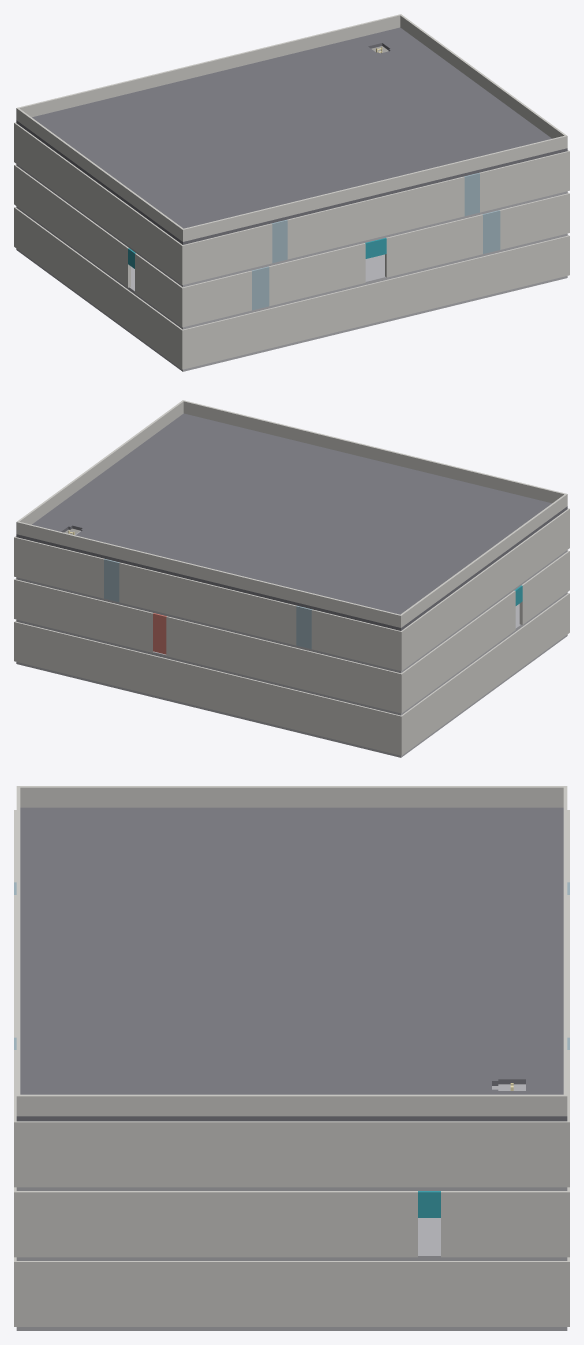
The model's file is bank_branch_a04.glb.
3 renders of one model, top to bottom at view 1: azimuth 30°, elevation 25°; view 2: azimuth 150°, elevation 25°; view 3: azimuth 270°, elevation 25°, orthographic. The views are drawn at different scales.
Visible parts, largest first — view 1: slab_2_t2_4, slab_2_t2_5, slab_2_t3_3, slab_2_t1_2, slab_2_t1_3, slab_2_t1_6, slab_2_t2_6, slab_2_t3_4, slab_2_t3_5, slab_2_t4_3, slab_2_t4_4, slab_2_t4_6 (+148 smaller); view 2: slab_2_t3_4, slab_2_t2_3, slab_2_t3_5, slab_2_t1_3, slab_2_t1_4, slab_2_t1_6, slab_2_t2_4, slab_2_t2_5, slab_2_t3_6, slab_2_t4_2, slab_2_t4_3, slab_2_t4_6 (+150 smaller); view 3: slab_2_t1_3, slab_2_t1_6, slab_2_t4_3, slab_2_t4_6, slab_2_t1_2, slab_2_t4_2, slab_2_t2_2, slab_2_t2_3, slab_2_t2_6, slab_2_t3_2, slab_2_t3_3, slab_2_t3_6 (+94 smaller).
Boxes of the visible parts, <box> form: slab_2_t2_4: <box>292,122,367,154</box>; slab_2_t2_5: <box>340,110,415,142</box>; slab_2_t3_3: <box>216,114,291,145</box>; slab_2_t1_2: <box>224,166,298,197</box>; slab_2_t1_3: <box>272,154,347,186</box>; slab_2_t1_6: <box>416,119,491,150</box>; slab_2_t2_6: <box>388,99,463,130</box>; slab_2_t3_4: <box>264,102,339,133</box>; slab_2_t3_5: <box>313,90,387,122</box>; slab_2_t4_3: <box>188,93,263,125</box>; slab_2_t4_4: <box>237,81,311,113</box>; slab_2_t4_6: <box>333,58,407,90</box>; slab_2_t3_4: <box>216,508,291,540</box>; slab_2_t2_3: <box>292,500,367,531</box>; slab_2_t3_5: <box>168,496,243,528</box>; slab_2_t1_3: <box>320,479,395,511</box>; slab_2_t1_4: <box>272,467,346,499</box>; slab_2_t1_6: <box>176,444,250,476</box>; slab_2_t2_4: <box>244,488,319,519</box>; slab_2_t2_5: <box>196,476,270,508</box>; slab_2_t3_6: <box>120,485,195,516</box>; slab_2_t4_2: <box>285,552,359,583</box>; slab_2_t4_3: <box>236,540,311,572</box>; slab_2_t4_6: <box>92,505,167,536</box>; slab_2_t1_3: <box>108,922,200,961</box>; slab_2_t1_6: <box>108,1038,200,1077</box>; slab_2_t4_3: <box>383,922,475,961</box>; slab_2_t4_6: <box>383,1038,475,1077</box>; slab_2_t1_2: <box>108,883,200,922</box>; slab_2_t4_2: <box>383,883,475,922</box>; slab_2_t2_2: <box>200,883,291,922</box>; slab_2_t2_3: <box>200,922,291,961</box>; slab_2_t2_6: <box>200,1038,291,1077</box>; slab_2_t3_2: <box>292,883,383,922</box>; slab_2_t3_3: <box>292,922,383,961</box>; slab_2_t3_6: <box>292,1038,383,1077</box>.
Size of what is drawn, in the model's own units: 40.3 by 14.1 by 30.3.
